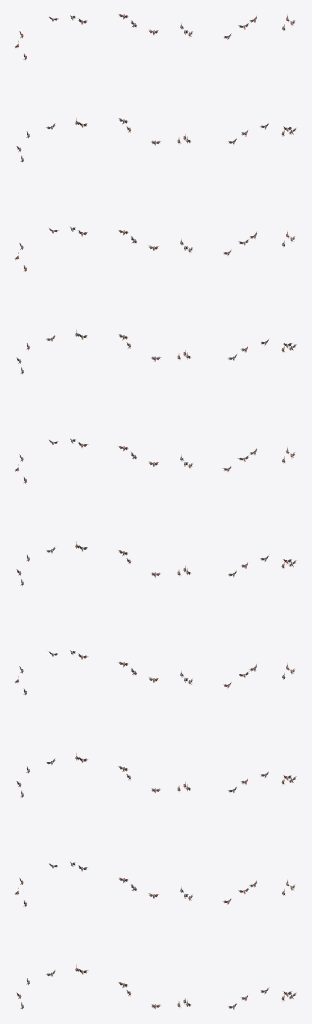
File: Circle7Crowd3.obj
The picture shows the model from 3 angles, left to right: view 1: azimuth 30°, elevation 25°; view 2: azimuth 210°, elevation 25°; view 3: azimuth 330°, elevation 25°; orthographic projection. The views are drawn at different scales.
Parts seen in each view (by area): view 1: Circle7Crowd3; view 2: Circle7Crowd3; view 3: Circle7Crowd3.
Boxes of the visible parts, bbox=[...] form: Circle7Crowd3: bbox=[15, 15, 88, 1009]; Circle7Crowd3: bbox=[118, 14, 193, 1008]; Circle7Crowd3: bbox=[222, 14, 296, 1009].
Bounding box in the file's own units: 27.83 × 417 × 18.33.
1 material, 1 textured.
